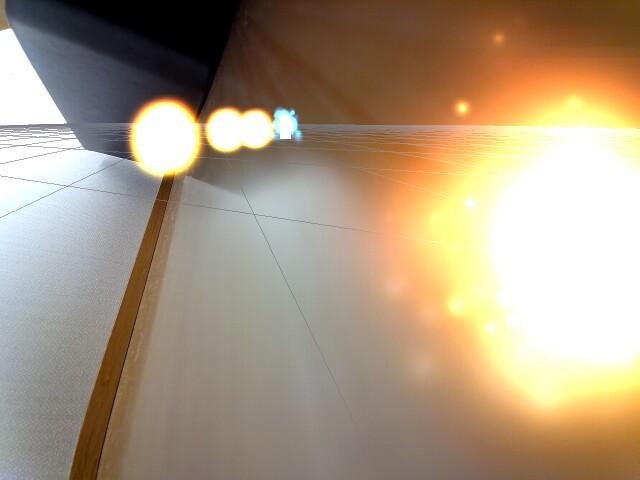fire: (453, 108, 637, 401), (129, 98, 201, 176), (206, 106, 245, 154), (240, 108, 276, 154)
